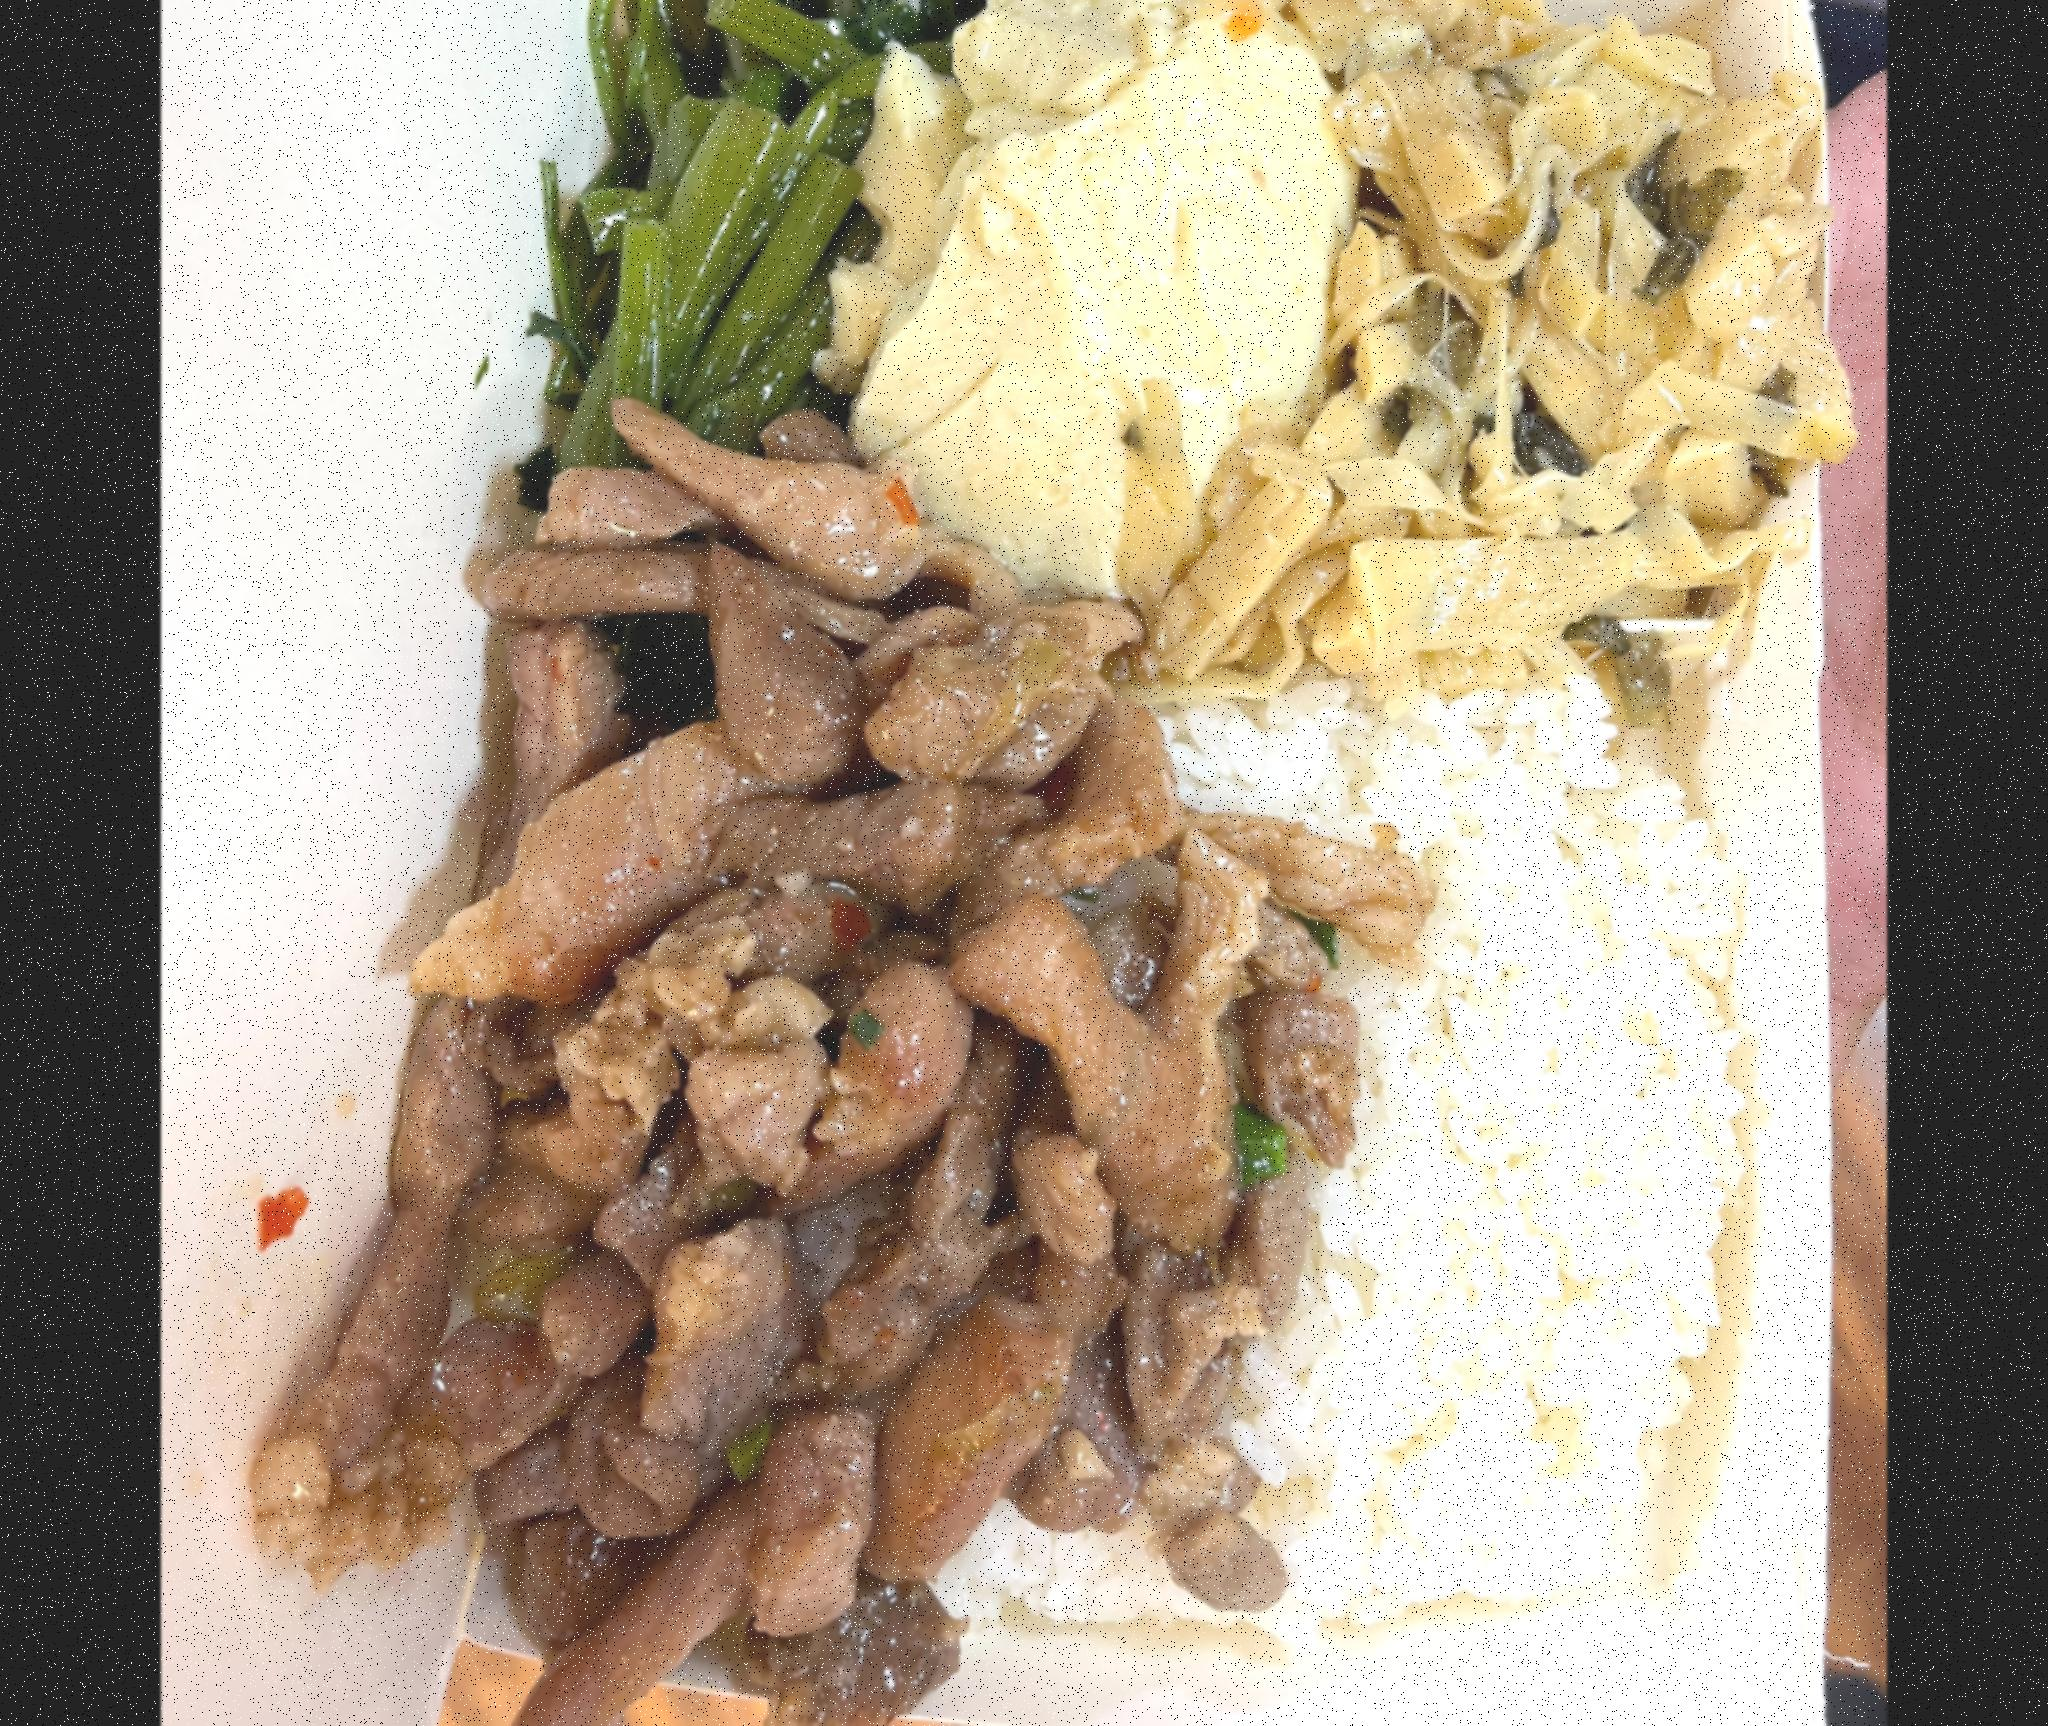box: (342, 0, 1872, 1726)
shacha pork: (259, 440, 1329, 1726)
side dish: (1301, 0, 1805, 678), (870, 0, 1339, 586), (514, 0, 956, 481)
white rice: (937, 637, 1764, 1628)
